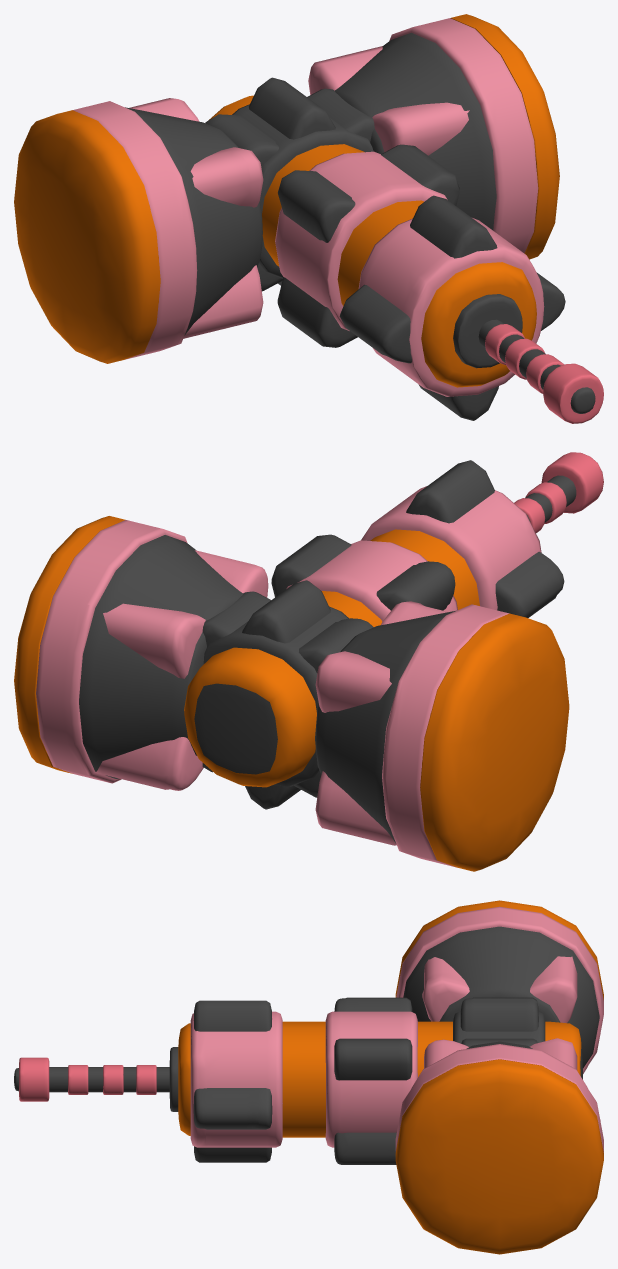
File: Martillaco.fbx
3 views of the same model, one above another, from view 1: azimuth 30°, elevation 25°; view 2: azimuth 150°, elevation 25°; view 3: azimuth 270°, elevation 25° (orthographic). The views are drawn at different scales.
Visible parts, largest first — view 1: pCube54, pCube58, pCube61, pCube59, polySurface3, pCube49, polySurface4, pCube52, pCube50, pCube57, pCube53, pCube62 (+10 smaller); view 2: pCube54, pCube61, pCube58, pCube59, polySurface3, pCube60, polySurface4, pCube49, pCube53, pCube50, pCube62, pCube57 (+8 smaller); view 3: pCube62, polySurface4, pCube58, pCube49, pCube52, pCube50, pCube57, polySurface3, pCube53, pCube59, pCube55, pCube68 (+9 smaller).
Boxes of the visible parts, x1=… form: pCube54: x1=14, y1=110, x2=160, y2=363; pCube58: x1=208, y1=95, x2=536, y2=387; pCube61: x1=335, y1=32, x2=496, y2=230; pCube59: x1=389, y1=18, x2=538, y2=253; polySurface3: x1=73, y1=101, x2=197, y2=359; pCube49: x1=358, y1=218, x2=544, y2=396; polySurface4: x1=125, y1=107, x2=262, y2=335; pCube52: x1=275, y1=151, x2=447, y2=330; pCube50: x1=339, y1=195, x2=565, y2=420; pCube57: x1=277, y1=144, x2=459, y2=347; pCube53: x1=129, y1=98, x2=263, y2=338; pCube62: x1=450, y1=14, x2=559, y2=259; pCube54: x1=420, y1=613, x2=569, y2=871; pCube61: x1=79, y1=535, x2=242, y2=778; pCube58: x1=184, y1=529, x2=479, y2=787; pCube59: x1=36, y1=520, x2=187, y2=783; polySurface3: x1=382, y1=604, x2=509, y2=867; pCube60: x1=95, y1=550, x2=268, y2=790; polySurface4: x1=315, y1=610, x2=456, y2=843; pCube49: x1=361, y1=486, x2=541, y2=610; pCube53: x1=315, y1=601, x2=448, y2=845; pCube50: x1=406, y1=460, x2=564, y2=617; pCube62: x1=14, y1=516, x2=125, y2=773; pCube57: x1=271, y1=534, x2=455, y2=610; pCube62: x1=395, y1=1059, x2=603, y2=1254; polySurface4: x1=403, y1=926, x2=599, y2=1068; pCube58: x1=178, y1=1021, x2=582, y2=1137; pCube49: x1=190, y1=1011, x2=282, y2=1147; pCube52: x1=325, y1=1011, x2=417, y2=1147; pCube50: x1=193, y1=1000, x2=272, y2=1162; pCube57: x1=334, y1=997, x2=412, y2=1164; polySurface3: x1=396, y1=906, x2=603, y2=1073; pCube53: x1=422, y1=956, x2=577, y2=1023; pCube59: x1=395, y1=1044, x2=603, y2=1152; pCube55: x1=460, y1=1000, x2=538, y2=1031; pCube68: x1=14, y1=1067, x2=169, y2=1092.
Bounding box in the file's own units: 3.56 × 1.71 × 4.84.
